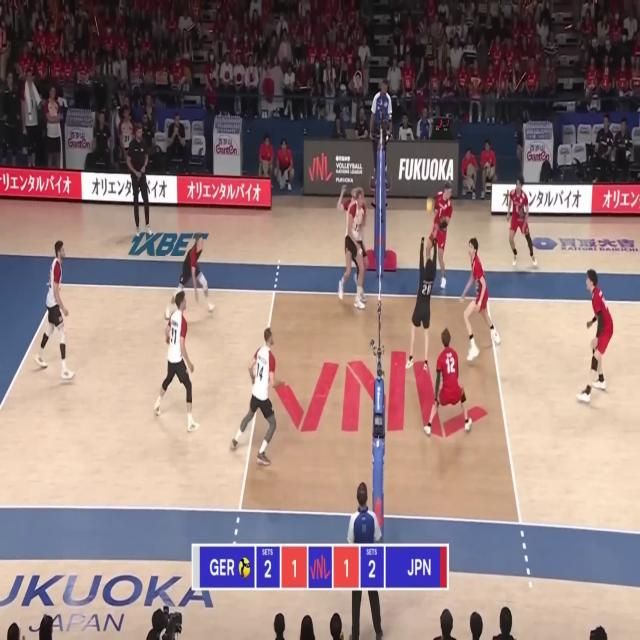referee: (345, 480, 385, 640)
team_one: (228, 323, 280, 470), (152, 289, 201, 438), (36, 237, 72, 382), (338, 191, 366, 310), (177, 234, 215, 314), (338, 184, 366, 237)
team_two: (422, 327, 473, 440), (458, 238, 502, 364), (579, 267, 614, 403), (404, 237, 437, 370), (425, 182, 453, 292), (506, 178, 536, 268)
